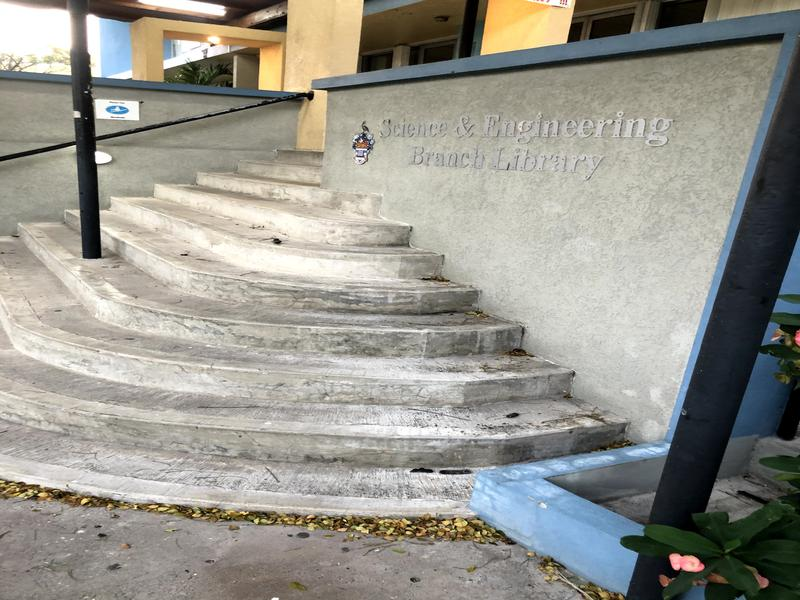18.0053644_-76.7493880_librarysign: (377, 106, 674, 189)
